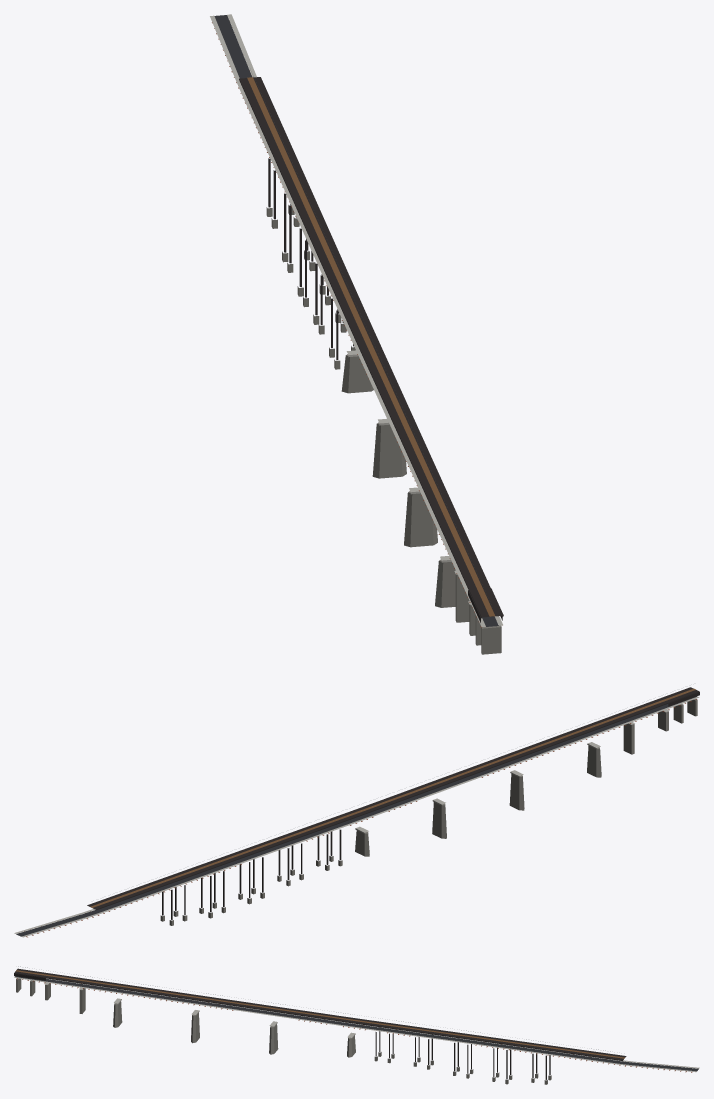
Rendered from br_r10_high_level_1_lod2.gltf.
3 renders of one model, top to bottom at view 1: azimuth 30°, elevation 25°; view 2: azimuth 150°, elevation 25°; view 3: azimuth 270°, elevation 25°, orthographic. The views are drawn at different scales.
Parts seen in each view (by area): view 1: br_r10_high_level_1_lod2; view 2: br_r10_high_level_1_lod2; view 3: br_r10_high_level_1_lod2.
Part boxes in pixels (x1,y1,x2,y2): br_r10_high_level_1_lod2: [210, 14, 503, 654]; br_r10_high_level_1_lod2: [14, 687, 699, 937]; br_r10_high_level_1_lod2: [14, 966, 699, 1084].
Size of the model in its own units: 267 by 58.48 by 738.
